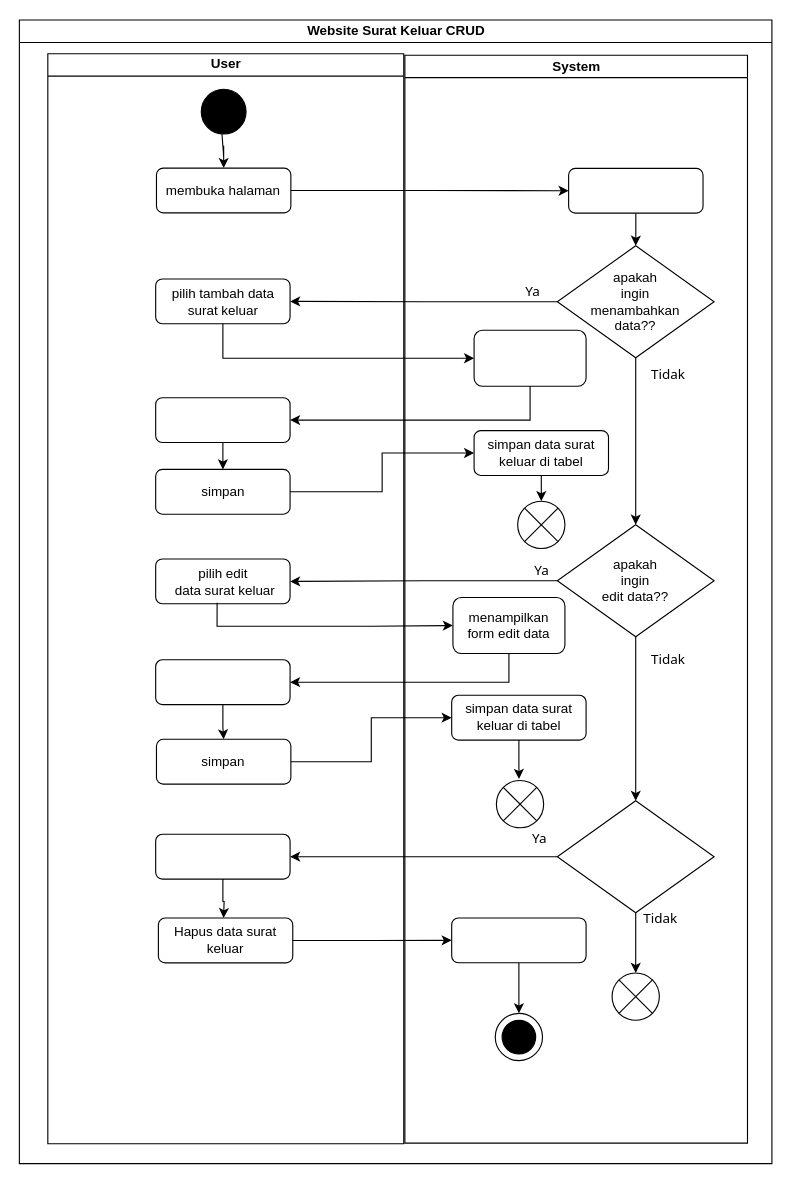
The diagram is 792 pixels wide and 1184 high, and some of its shapes have lost their labels. Here are the shapes that lost their labels. From the top down, the centre of each, then its label:
At point 635,190: "menampilkan data".
At point 529,357: "menampilkan form tambah data".
At point 222,420: "memasukan data surat keluar".
At point 222,682: "edit data surat keluar".
At point 222,856: "pilih data surat keluar".
At point 635,856: "apakah ingin hapus data??".
At point 518,940: "menghapus data surat keluar dari tabel".
